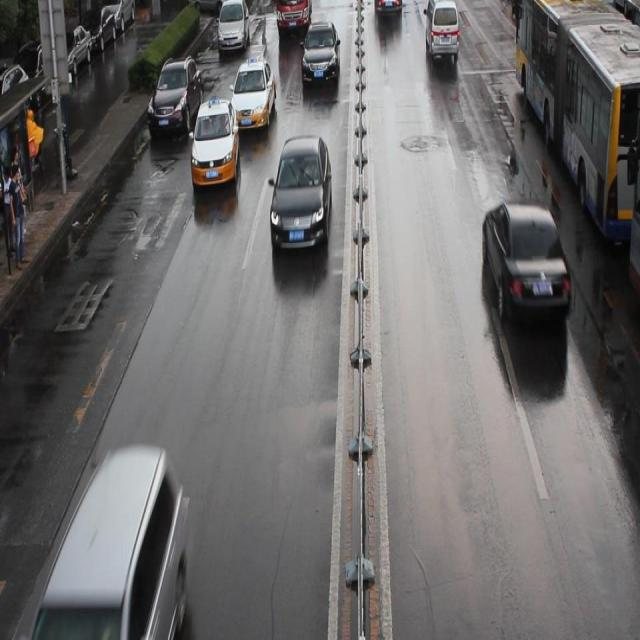bus: (275, 1, 312, 29)
car: (481, 201, 571, 320), (268, 135, 332, 253), (147, 58, 204, 134), (190, 100, 239, 184), (228, 57, 276, 134), (301, 22, 341, 85), (217, 1, 251, 52), (189, 1, 235, 13), (374, 1, 402, 12)
truck: (29, 441, 194, 640), (425, 1, 458, 58)
van: (513, 1, 640, 243), (626, 144, 640, 298)
